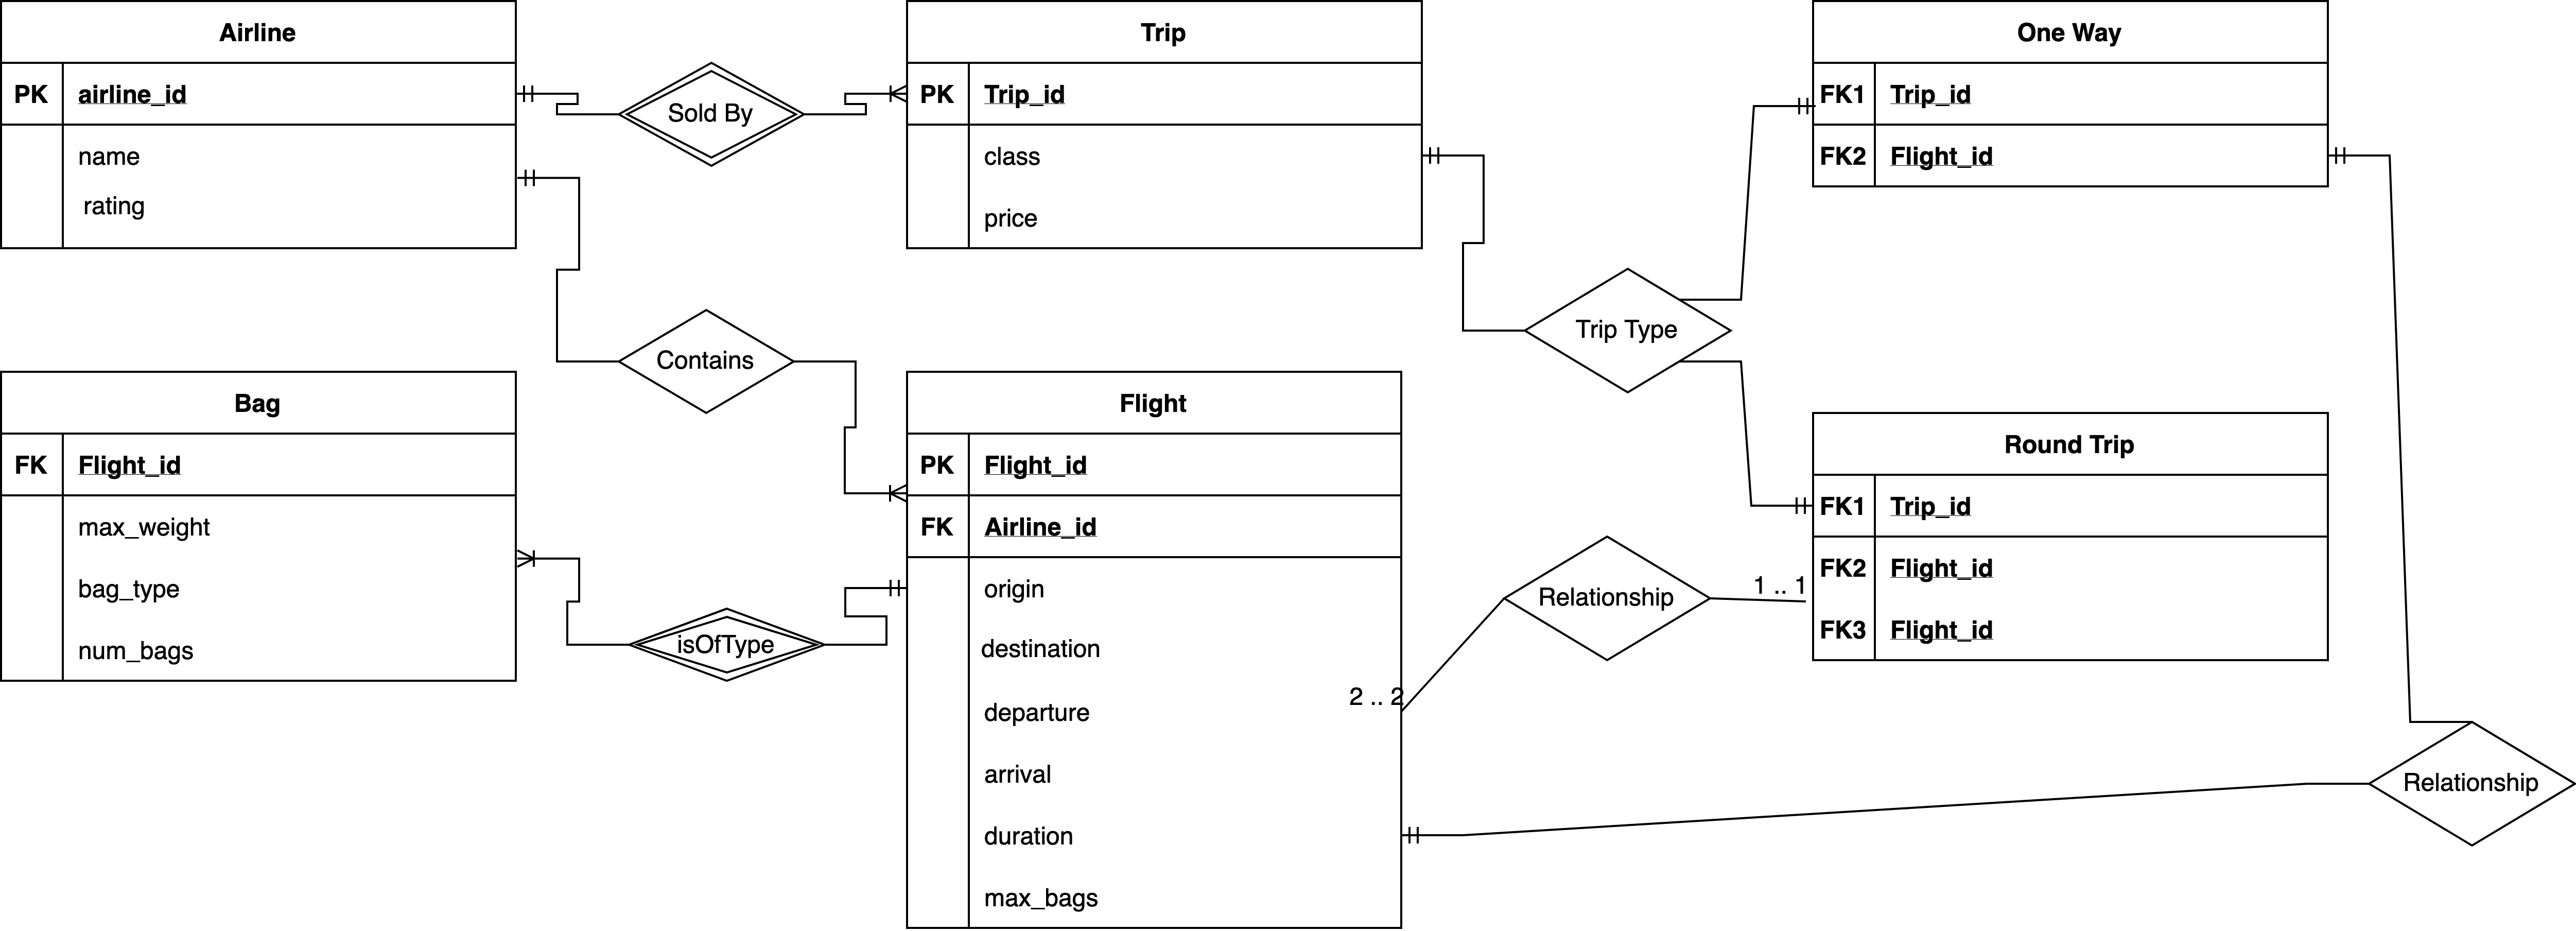entity: (902, 373, 1401, 931), (0, 373, 519, 686), (1812, 412, 2333, 665), (905, 0, 1426, 250), (0, 0, 519, 248), (1812, 2, 2333, 192)
ident_rel: (618, 62, 802, 167), (629, 606, 826, 685)
many: (844, 484, 907, 506), (516, 550, 580, 570), (844, 84, 907, 103)
one: (1753, 496, 1812, 519), (844, 580, 905, 601), (2330, 146, 2390, 167), (1753, 99, 1815, 118), (517, 169, 578, 189), (1401, 826, 1464, 844), (1421, 146, 1482, 164), (519, 85, 567, 103)
rel: (1526, 264, 1728, 396), (2374, 721, 2576, 846), (1505, 535, 1709, 657), (618, 309, 795, 412)
